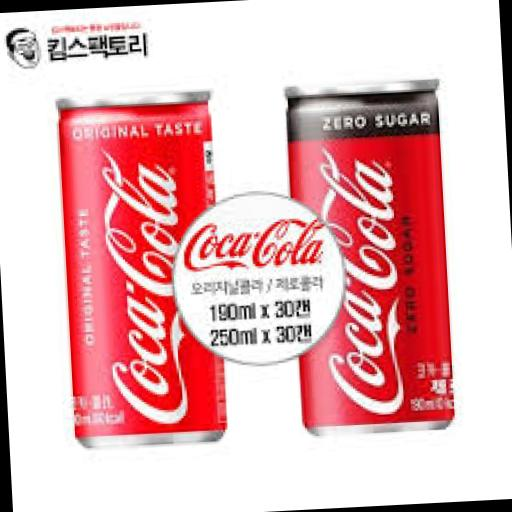Coca: (46, 78, 239, 462)
